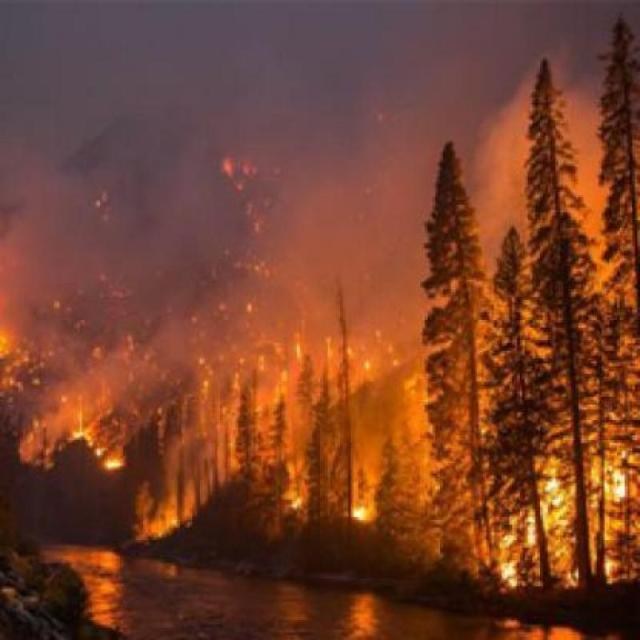Fire: (185, 345, 640, 640)
Smoke: (0, 39, 640, 318)
